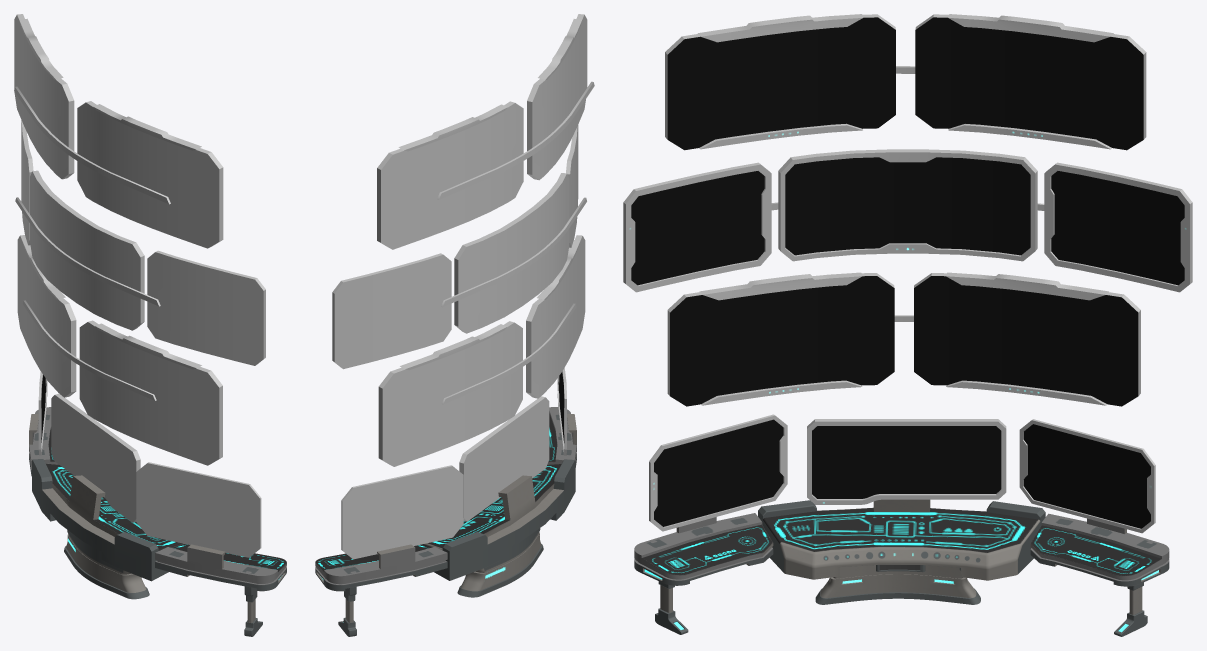
File: kompukter_new.fbx
The picture shows the model from 3 angles, left to right: view 1: azimuth 30°, elevation 25°; view 2: azimuth 150°, elevation 25°; view 3: azimuth 270°, elevation 25°; orthographic projection. The views are drawn at different scales.
Visible parts, largest first — view 1: Plane.001_low.003, Plane.001_low, Plane_low, Display_mid_center, Mesh105.005_low, Central_low, Cube.002_low, Plane.001_low.004, Plane.001_low.002, Side_panel_low, Body_low, Part_1.004 (+10 smaller); view 2: Plane.001_low.004, Plane.001_low.002, Plane_low.003, Display_mid_center, Mesh105.006_low, Central_low, Cube.002_low, Plane.001_low.003, Plane.001_low, Side_panel_low.001, Body_low, Part_1.004 (+10 smaller); view 3: Display_high_right.001, Display_high_left.001, Display_high_right, Display_high_left, Display_mid_center.001, Central_low, Display_down_centre, Display_Mid_left, Display_mid_right, Display_down_left, Display_down_right, Side_panel_low (+17 smaller).
Part boxes in pixels (x1,y1,x2,y2): Plane.001_low.003: [77, 101, 223, 248]; Plane.001_low: [79, 320, 222, 465]; Plane_low: [147, 250, 265, 365]; Display_mid_center: [30, 170, 144, 330]; Mesh105.005_low: [136, 462, 261, 557]; Central_low: [32, 459, 183, 581]; Cube.002_low: [51, 393, 140, 522]; Plane.001_low.004: [14, 14, 74, 179]; Plane.001_low.002: [17, 235, 76, 397]; Side_panel_low: [155, 544, 286, 591]; Body_low: [66, 530, 146, 592]; Part_1.004: [14, 86, 170, 204]; Plane.001_low.004: [377, 101, 523, 249]; Plane.001_low.002: [378, 321, 522, 466]; Plane_low.003: [332, 253, 451, 369]; Display_mid_center: [454, 173, 569, 333]; Mesh105.006_low: [341, 465, 463, 559]; Central_low: [421, 459, 575, 580]; Cube.002_low: [459, 396, 549, 521]; Plane.001_low.003: [527, 14, 587, 180]; Plane.001_low: [526, 235, 585, 398]; Side_panel_low.001: [315, 544, 447, 591]; Body_low: [460, 528, 541, 591]; Part_1.004: [437, 81, 594, 199]; Display_high_right.001: [915, 17, 1143, 150]; Display_high_left.001: [667, 17, 895, 150]; Display_high_right: [914, 276, 1138, 406]; Display_high_left: [670, 276, 894, 406]; Display_mid_center.001: [785, 157, 1030, 255]; Central_low: [758, 499, 1045, 580]; Display_down_centre: [812, 426, 1001, 498]; Display_Mid_left: [631, 171, 764, 285]; Display_mid_right: [1051, 171, 1184, 285]; Display_down_left: [654, 419, 783, 526]; Display_down_right: [1023, 424, 1150, 528]; Side_panel_low: [634, 513, 773, 585].
Bounding box in the file's own units: 121 × 447 × 403.
